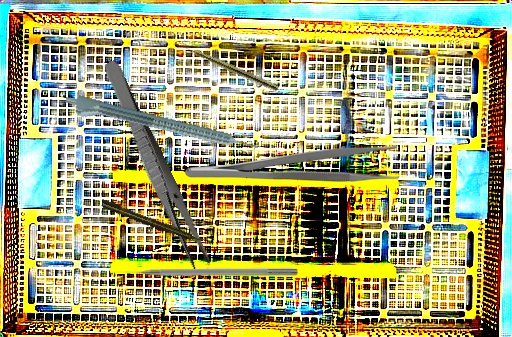Dressing Forceps: (97, 58, 213, 271), (184, 144, 400, 183)
Handpiece: (62, 92, 259, 162), (175, 39, 280, 93), (99, 197, 207, 248)
Pusher: (112, 266, 298, 276)
